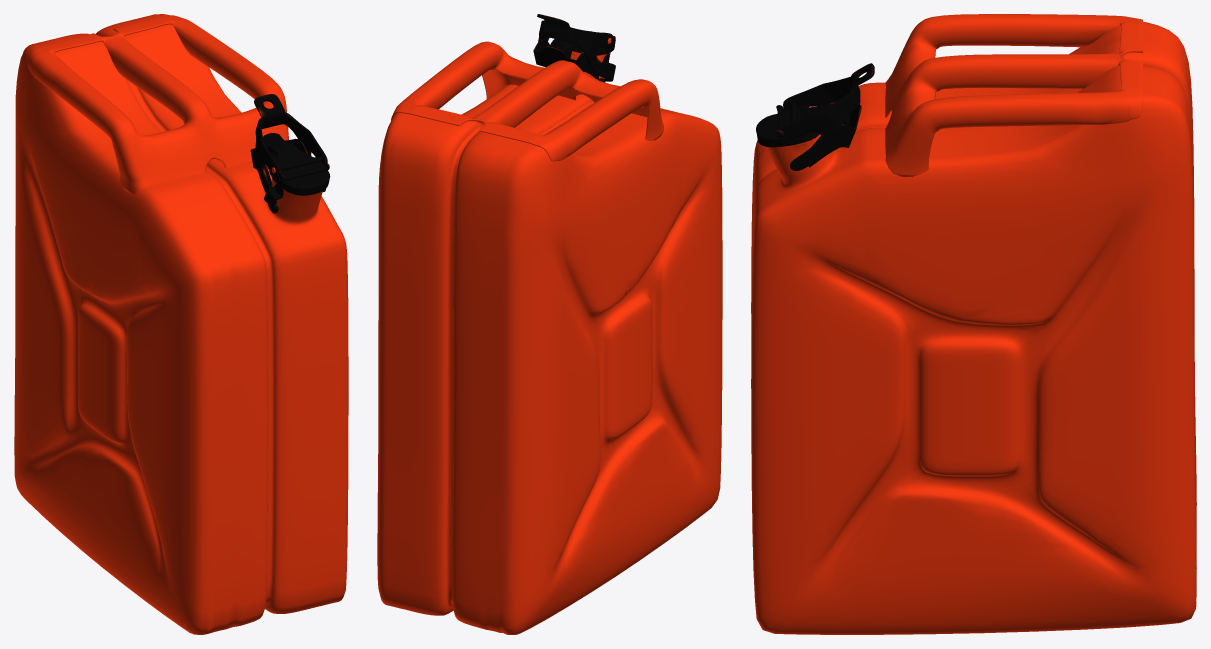
Rendered from LargePetrolCan.fbx.
The picture shows the model from 3 angles, left to right: view 1: azimuth 30°, elevation 25°; view 2: azimuth 150°, elevation 25°; view 3: azimuth 270°, elevation 25°; orthographic projection. The views are drawn at different scales.
Visible parts, largest first — view 1: LargePetrolCan; view 2: LargePetrolCan; view 3: LargePetrolCan.
Part boxes in pixels (<box>): LargePetrolCan: <box>14,14,348,634</box>; LargePetrolCan: <box>377,14,722,634</box>; LargePetrolCan: <box>751,14,1196,634</box>.
Size of the model in its own units: 0.1036 by 0.2065 by 0.282.
